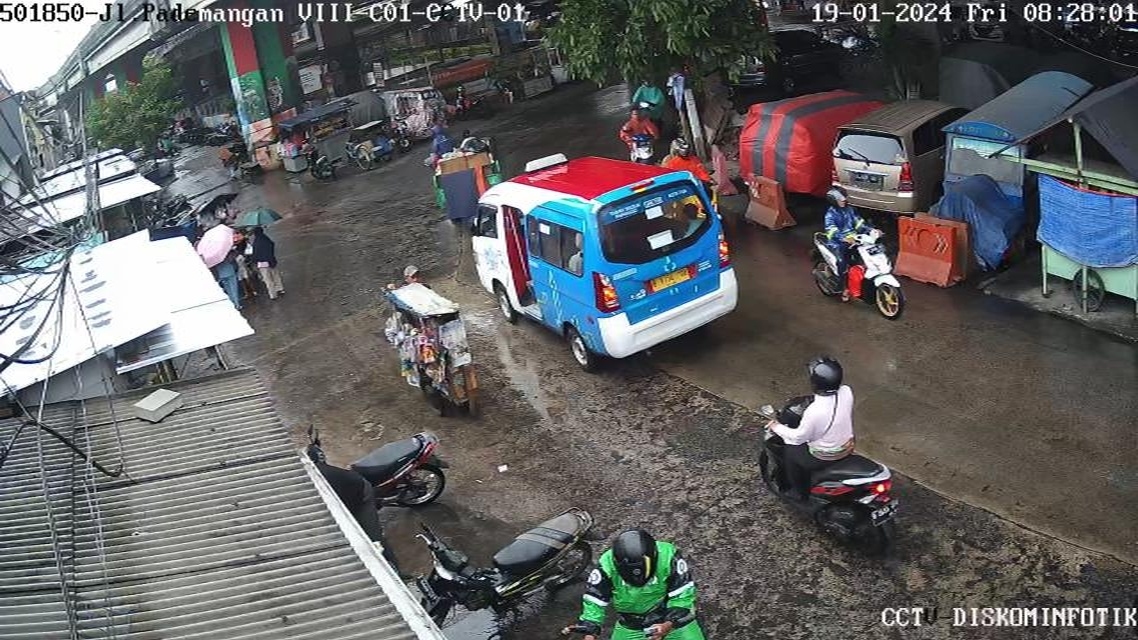Gerobak: (1030, 83, 1138, 310), (377, 255, 480, 414), (933, 118, 1030, 275), (434, 144, 498, 201), (391, 84, 446, 138), (308, 114, 356, 173)
